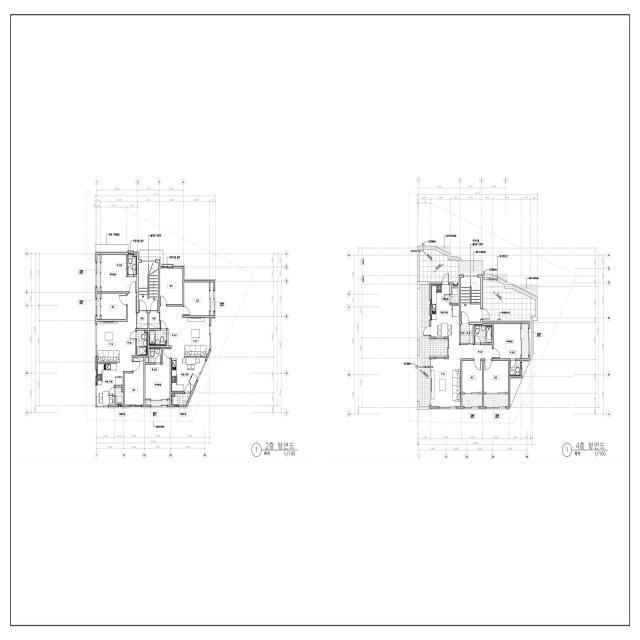space_balconi: (419, 285, 448, 406), (484, 395, 508, 406), (462, 395, 482, 406), (522, 324, 528, 359), (97, 255, 100, 291), (145, 401, 170, 405), (97, 294, 100, 319), (211, 282, 213, 315)
space_bedroom: (101, 255, 137, 292), (145, 348, 170, 399), (493, 324, 520, 359), (125, 357, 144, 405), (184, 282, 209, 316), (160, 268, 183, 304), (484, 361, 508, 392), (101, 293, 126, 319), (462, 361, 482, 392)
space_front: (461, 325, 473, 344), (149, 313, 160, 328), (137, 313, 148, 328)
space_kitchen: (431, 285, 459, 337), (172, 358, 206, 392), (97, 363, 123, 406)
space_living_room: (431, 337, 492, 406), (97, 294, 137, 371), (160, 306, 209, 358)
space_multipurpose_space: (171, 394, 190, 405), (115, 387, 123, 405), (452, 285, 459, 303)
space_other: (474, 324, 492, 325), (145, 357, 148, 362), (145, 330, 148, 332), (122, 387, 123, 391), (171, 394, 174, 395), (134, 255, 137, 256), (148, 333, 148, 355), (510, 376, 520, 376), (137, 257, 137, 274)
space_staircase: (139, 263, 158, 310), (461, 278, 480, 322)
space_toilet: (474, 326, 492, 343), (149, 330, 167, 345), (137, 330, 147, 355), (149, 348, 161, 362), (128, 256, 136, 274), (510, 361, 520, 375)
